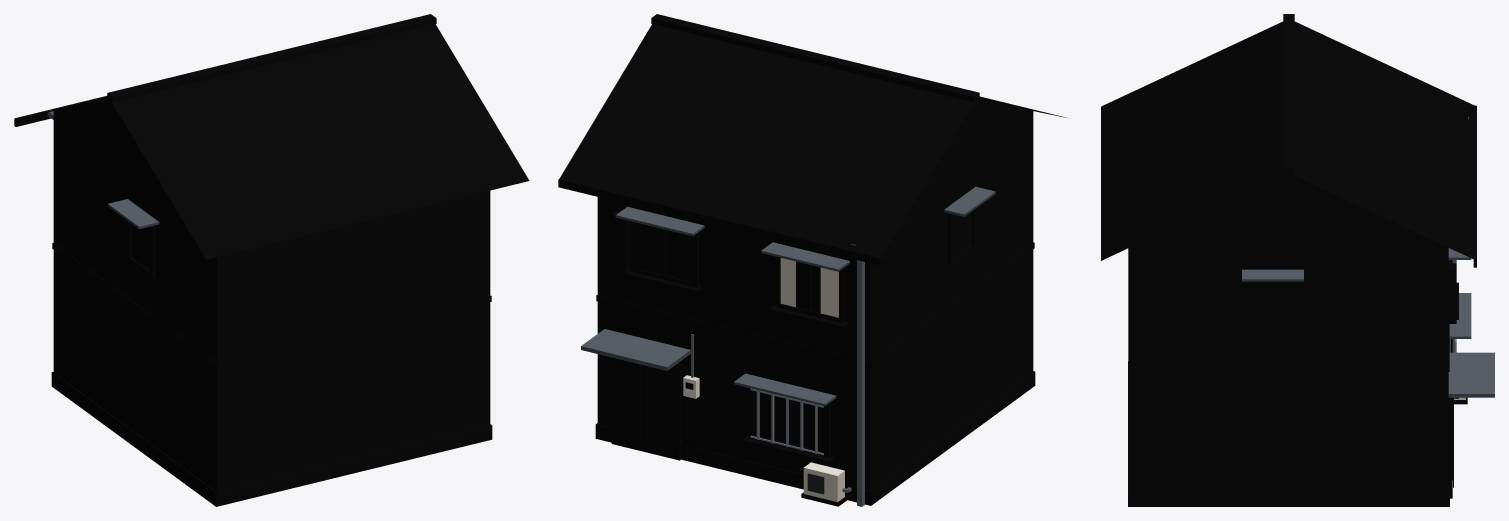
Rendered from House_B2.fbx.
The picture shows the model from 3 angles, left to right: view 1: azimuth 30°, elevation 25°; view 2: azimuth 150°, elevation 25°; view 3: azimuth 270°, elevation 25°; orthographic projection. The views are drawn at different scales.
Parts seen in each view (by area): view 1: Body.012, Roof.007, Footing.005, Belt.005, Gables.007, Hoods.013, Glass.016, WinFrame.016; view 2: Body.012, Roof.007, Glass.016, WinFrame.016, Footing.005, Hoods.013, Belt.005, Gables.007, Hood.005, Pipes.016, Door.005, Curtain0.015 (+7 smaller); view 3: Body.012, Roof.007, Gables.007, Footing.005, Belt.005, Hood.005, Glass.016, Hoods.013, WinFrame.016, Shutterbox.005, Door.005.
Boxes of the visible parts, box(x1,y1,x2,y2) form: Body.012: box(53, 111, 490, 491); Roof.007: box(14, 14, 529, 259); Footing.005: box(51, 372, 492, 506); Belt.005: box(52, 243, 491, 368); Gables.007: box(55, 100, 164, 191); Hoods.013: box(107, 199, 159, 229); Glass.016: box(131, 224, 150, 270); WinFrame.016: box(127, 221, 155, 277); Body.012: box(597, 111, 1033, 490); Roof.007: box(558, 14, 1068, 265); Glass.016: box(616, 211, 971, 450); WinFrame.016: box(624, 208, 976, 463); Footing.005: box(595, 371, 1035, 505); Hoods.013: box(615, 186, 995, 406); Belt.005: box(596, 242, 1034, 367); Gables.007: box(922, 100, 1031, 190); Hood.005: box(581, 329, 690, 370); Pipes.016: box(691, 244, 864, 506); Door.005: box(611, 357, 681, 460); Curtain0.015: box(780, 258, 838, 317); Body.012: box(1129, 235, 1448, 492); Roof.007: box(1101, 14, 1476, 267); Gables.007: box(1156, 174, 1421, 235); Footing.005: box(1128, 361, 1449, 506); Belt.005: box(1128, 248, 1449, 371); Hood.005: box(1448, 352, 1494, 397); Glass.016: box(1252, 282, 1453, 479); Hoods.013: box(1242, 248, 1471, 338); WinFrame.016: box(1248, 260, 1458, 398); Shutterbox.005: box(1448, 263, 1456, 323); Door.005: box(1448, 397, 1452, 498).
Bounding box in the file's own units: 7.1 × 7.5 × 7.65.
